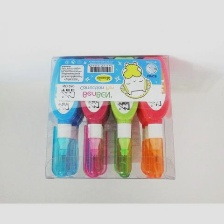correction_fluid: (75, 54, 114, 179), (106, 54, 142, 179), (46, 55, 82, 178), (137, 54, 171, 180)
plastic_box: (41, 50, 179, 183)
